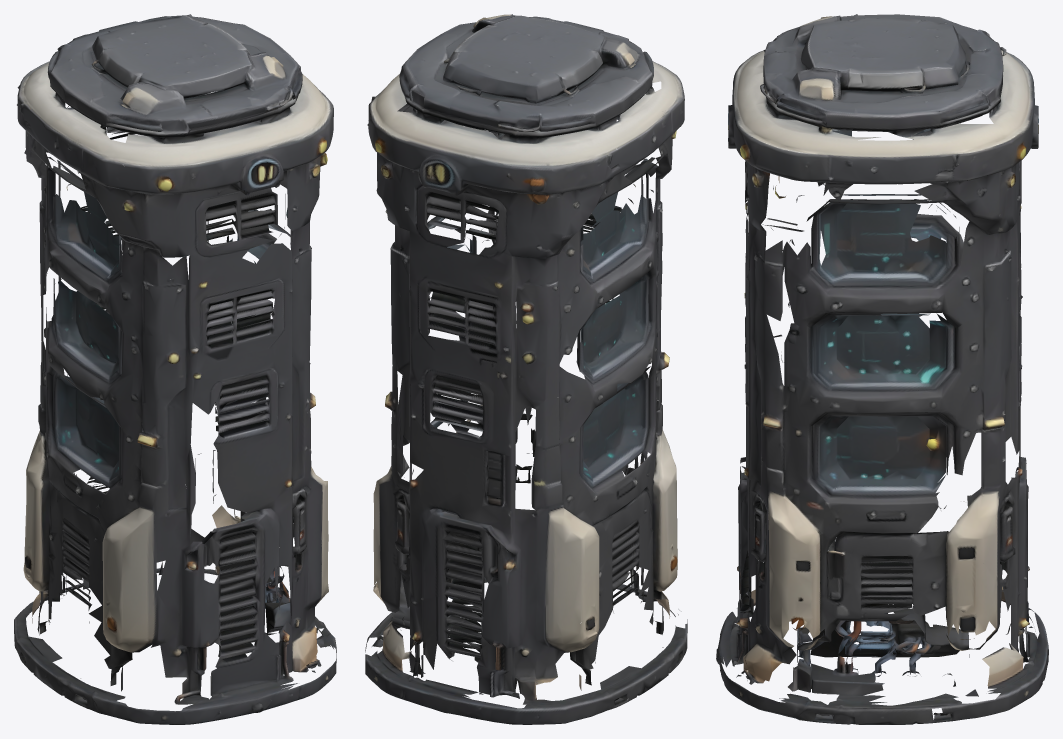
The model's file is observation-server_tripo_20261008.glb.
3 renders of one model, left to right at view 1: azimuth 30°, elevation 25°; view 2: azimuth 150°, elevation 25°; view 3: azimuth 270°, elevation 25°, orthographic.
Parts seen in each view (by area): view 1: tripo_node_4cdb4008-91a9-46be-af7b-27846de0f7e0; view 2: tripo_node_4cdb4008-91a9-46be-af7b-27846de0f7e0; view 3: tripo_node_4cdb4008-91a9-46be-af7b-27846de0f7e0.
Boxes of the visible parts, x1,y1,x2,y2 form: tripo_node_4cdb4008-91a9-46be-af7b-27846de0f7e0: (14,14,336,724); tripo_node_4cdb4008-91a9-46be-af7b-27846de0f7e0: (365,14,687,724); tripo_node_4cdb4008-91a9-46be-af7b-27846de0f7e0: (716,14,1048,724).
Bounding box in the file's own units: 0.7631 × 1.7 × 0.8301.
1 material, 1 textured.
